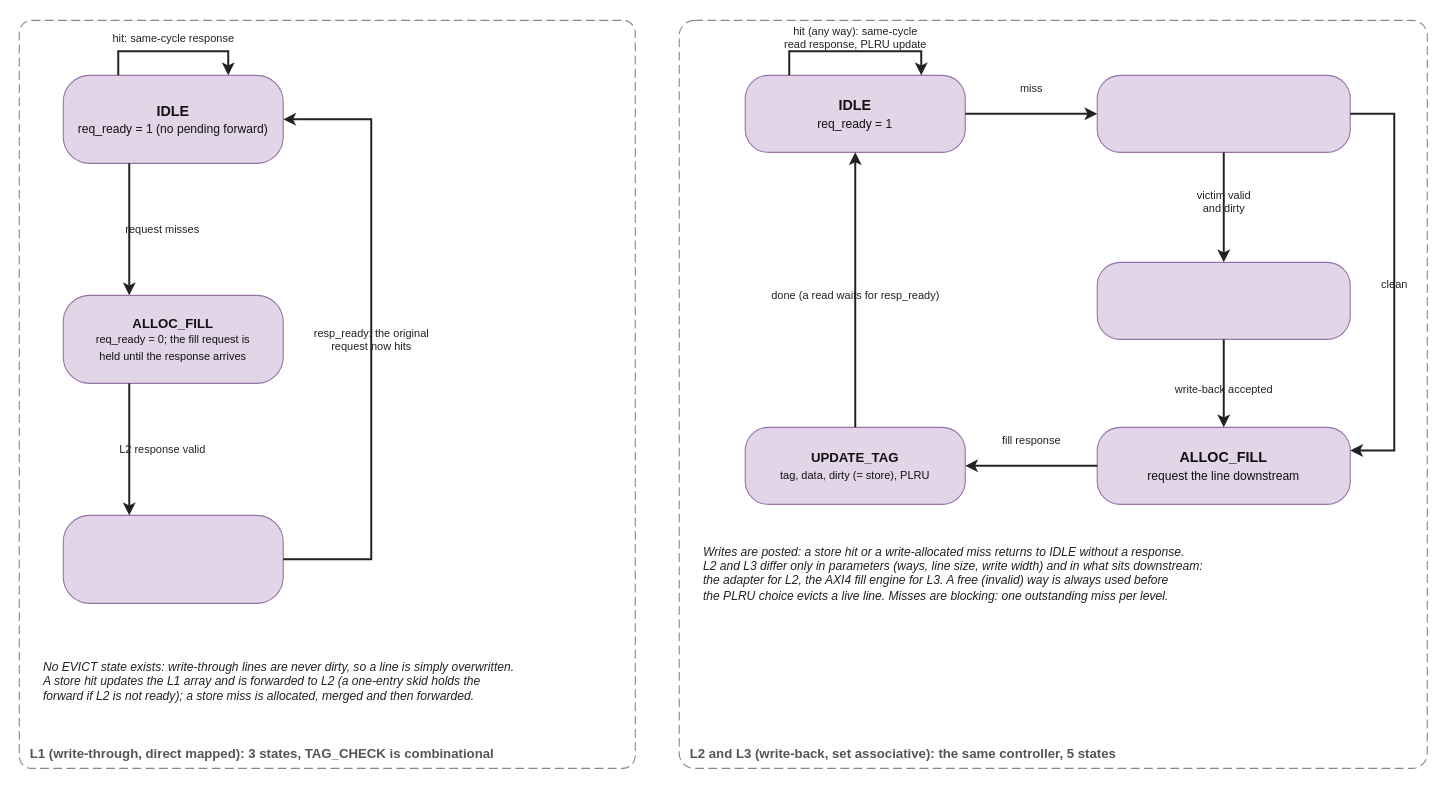
This 1447x788 diagram has some shape labels left out. Here are the shapes that lost their labels. From the top down, the centre of each, then its label:
(1223,113): TAG_CHECK victim: free way, else PLRU
(1223,300): EVICT_WRITEBACK dirty victim goes downstream
(172,558): UPDATE_TAG commit tag, valid, data; response waits for resp_ready
